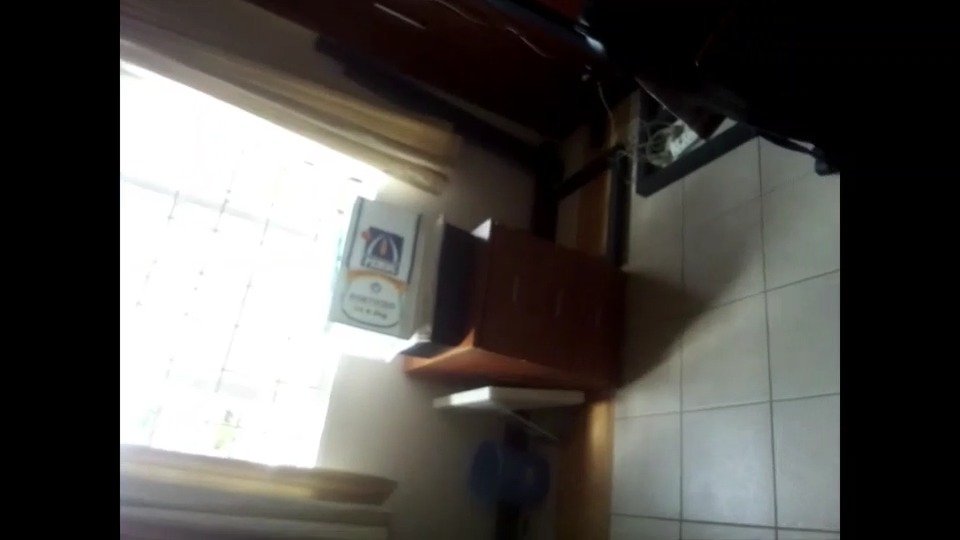wheat_flour_blue_label: (327, 199, 436, 340)
